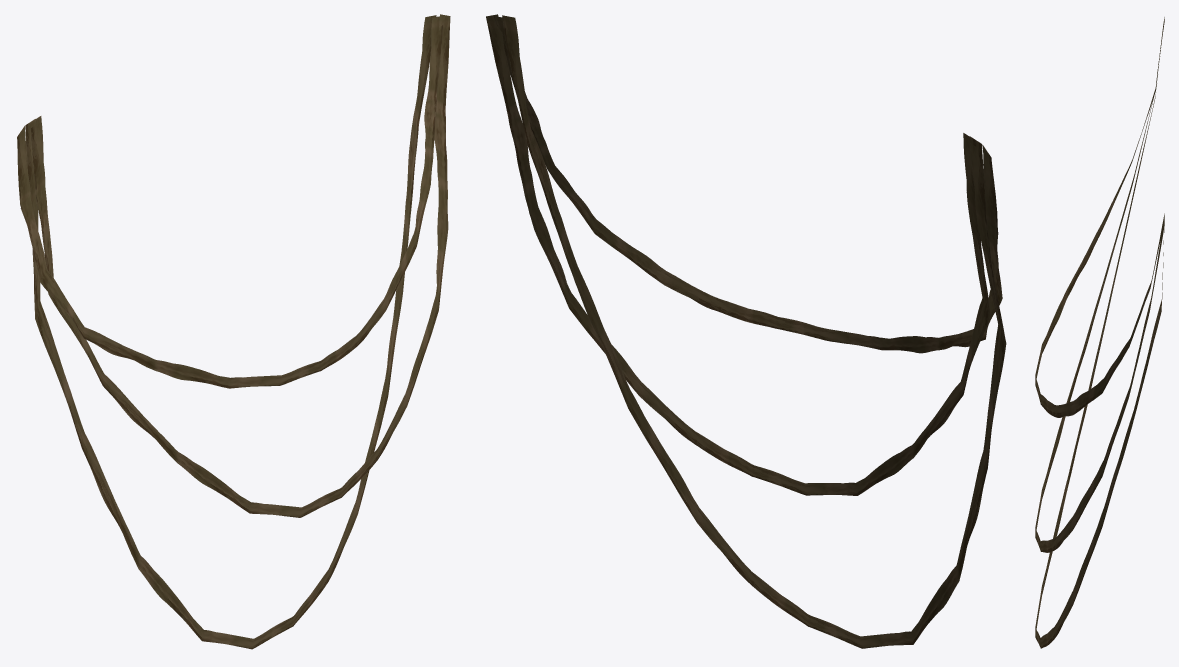
The model's file is Veg_vines_Sanctum.fbx.
The picture shows the model from 3 angles, left to right: view 1: azimuth 30°, elevation 25°; view 2: azimuth 150°, elevation 25°; view 3: azimuth 270°, elevation 25°; orthographic projection. The views are drawn at different scales.
Parts seen in each view (by area): view 1: Veg_vines_Sanctum; view 2: Veg_vines_Sanctum; view 3: Veg_vines_Sanctum.
Boxes of the visible parts, x1,y1,x2,y2 form: Veg_vines_Sanctum: (17,14,450,649); Veg_vines_Sanctum: (486,14,1006,648); Veg_vines_Sanctum: (1035,17,1164,648).
Bounding box in the file's own units: 642 × 742 × 157.
